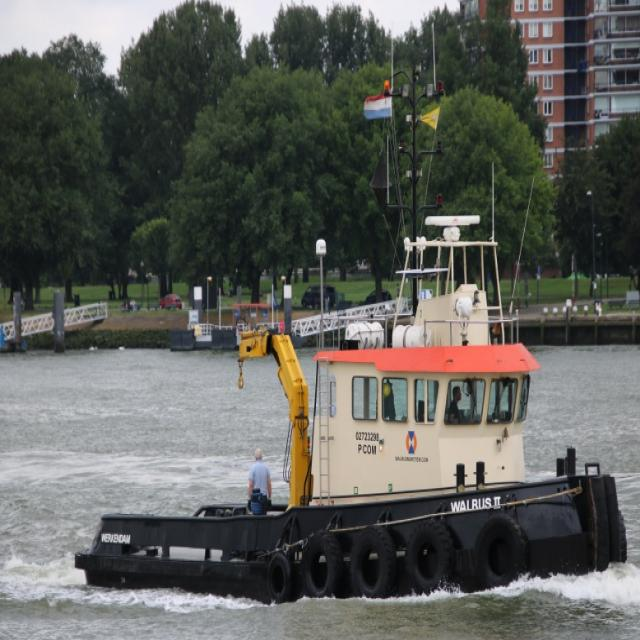tugboat: (73, 206, 633, 618)
